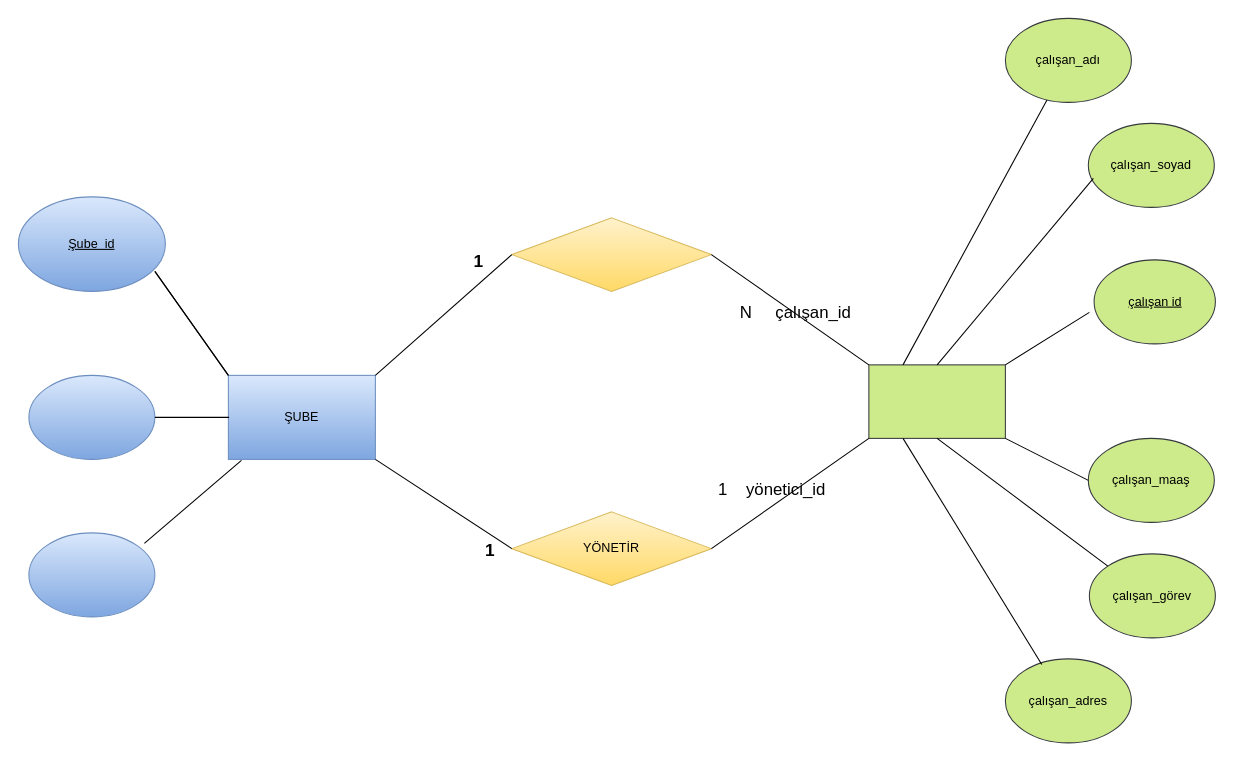
Image size: 1234x761. Some labels were removed from this diagram. The box of each missing label's shape, as (x1, y1, x2, y2) in pixels:
ÇALIŞAN: (868, 364, 1005, 438)
ÇALIŞIR: (511, 217, 711, 291)
Şube_adres: (28, 532, 155, 617)
Şube_adı: (28, 374, 155, 459)
